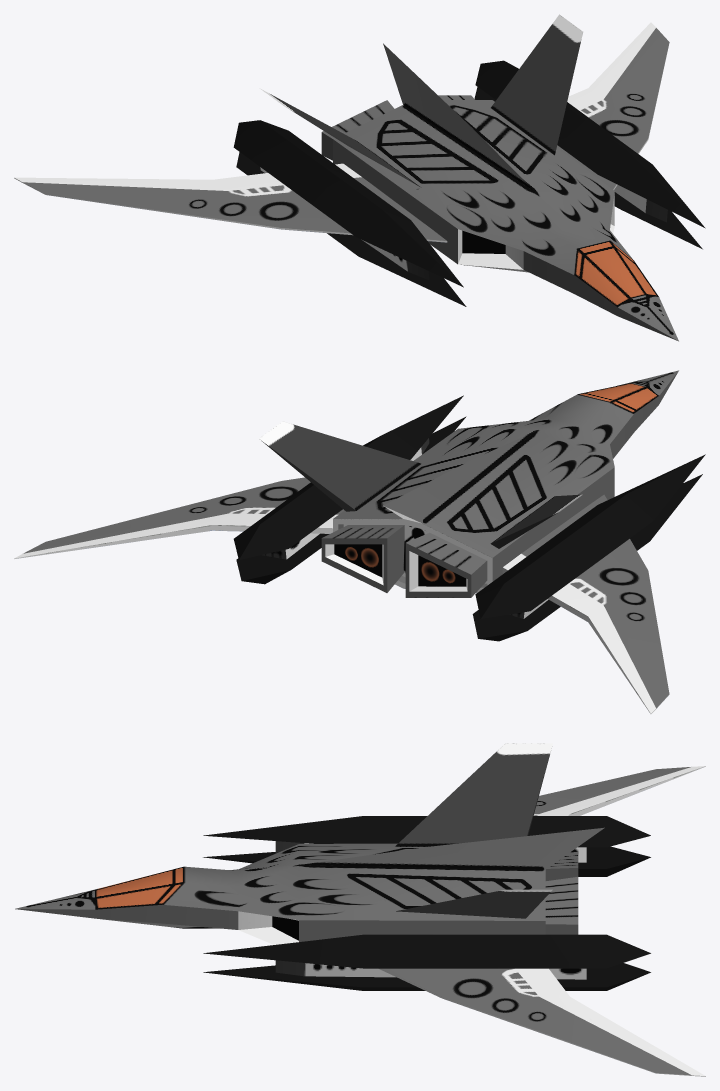
The model's file is Space_Ship 1.fbx.
3 renders of one model, top to bottom at view 1: azimuth 30°, elevation 25°; view 2: azimuth 150°, elevation 25°; view 3: azimuth 270°, elevation 25°, orthographic.
Visible parts, largest first — view 1: Space_Ship; view 2: Space_Ship; view 3: Space_Ship.
Part boxes in pixels (box(x1,y1,x2,y2)): Space_Ship: box(14, 14, 705, 341); Space_Ship: box(14, 370, 705, 713); Space_Ship: box(15, 743, 705, 1076).
Bounding box in the file's own units: 4892 × 869 × 4614.
1 material, 1 textured.
